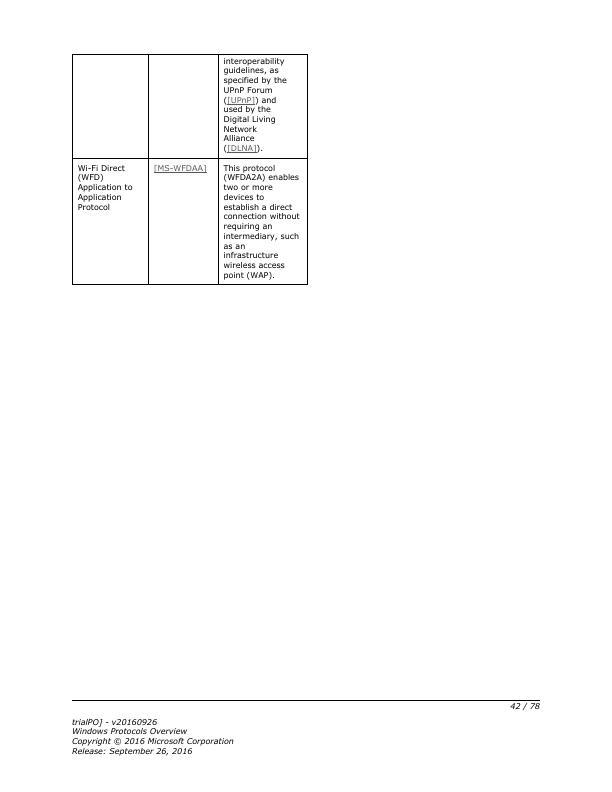table: (68, 52, 311, 288)
text: (68, 715, 235, 754)
